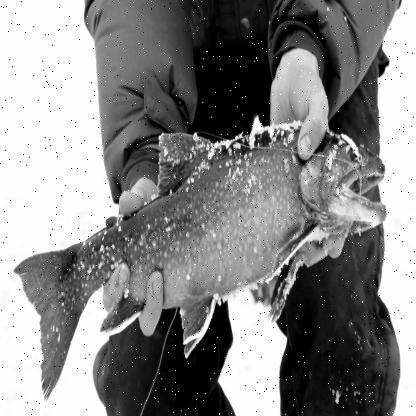fish: (17, 124, 386, 400)
